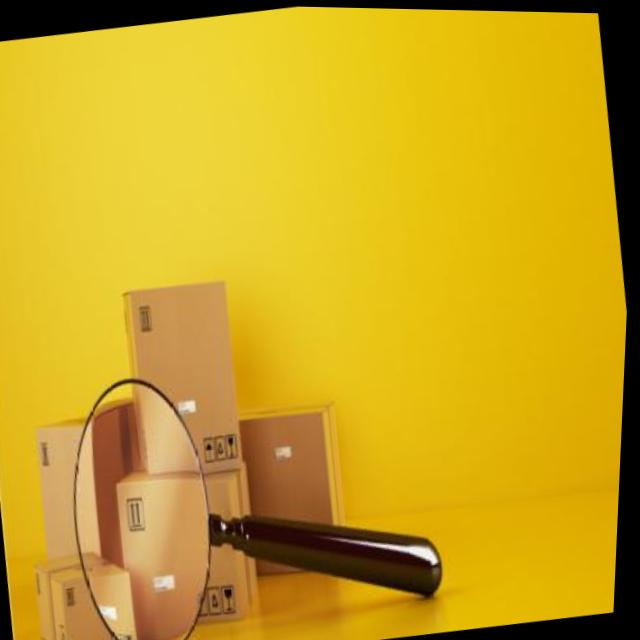box: (115, 462, 283, 640), (117, 267, 252, 481), (33, 404, 154, 565), (238, 389, 361, 541), (36, 551, 152, 640)
